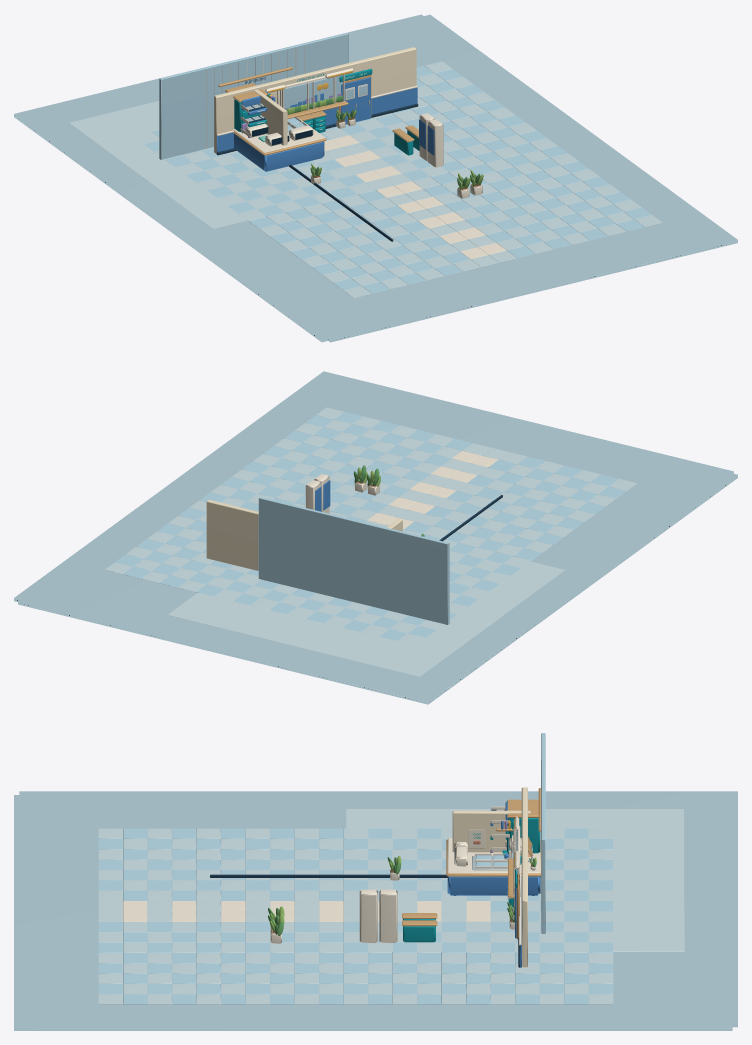
The model's file is hospital-library.glb.
The picture shows the model from 3 angles, top to bottom: view 1: azimuth 30°, elevation 25°; view 2: azimuth 150°, elevation 25°; view 3: azimuth 270°, elevation 25°; orthographic projection. The views are drawn at different scales.
Visible parts, largest first — view 1: Rounded part.445, room_suite_tile, room_suite_lightblue, room_or_lightblue, room_or_tile, Rounded part.942, Rounded part.1462, Rounded part.1461, room_suite_wall, room_suite_cream, room_or_wall, room_or_blue (+8 smaller); view 2: Rounded part.445, Rounded part.942, room_suite_tile, room_suite_lightblue, Rounded part.1462, Rounded part.1461, room_or_tile, room_or_lightblue, room_or_wall, room_suite_cream, room_suite_wall; view 3: Rounded part.942, room_suite_tile, room_suite_lightblue, Rounded part.445, room_or_tile, Rounded part.1461, room_or_lightblue, room_suite_cream, room_or_cream, room_suite_wall, Rounded part.1477, prep_counter_cream (+7 smaller).
Part boxes in pixels (<box>): Rounded part.445: <box>14,14,728,342</box>; room_suite_tile: <box>137,61,662,297</box>; room_suite_lightblue: <box>149,66,648,293</box>; room_or_lightblue: <box>144,66,651,293</box>; room_or_tile: <box>134,61,662,297</box>; Rounded part.942: <box>23,14,737,342</box>; Rounded part.1462: <box>159,32,348,159</box>; Rounded part.1461: <box>69,101,454,228</box>; room_suite_wall: <box>214,50,403,153</box>; room_suite_cream: <box>217,70,506,259</box>; room_or_wall: <box>214,47,416,153</box>; room_or_blue: <box>216,77,434,155</box>; Rounded part.445: <box>18,374,737,704</box>; Rounded part.942: <box>14,371,733,696</box>; room_suite_tile: <box>105,407,636,645</box>; room_suite_lightblue: <box>117,412,626,640</box>; Rounded part.1462: <box>258,497,449,624</box>; Rounded part.1461: <box>168,517,564,676</box>; room_or_tile: <box>105,407,635,644</box>; room_or_lightblue: <box>116,412,618,634</box>; room_or_wall: <box>206,499,398,570</box>; room_suite_cream: <box>367,451,498,529</box>; room_suite_wall: <box>219,504,402,570</box>; Rounded part.942: <box>14,795,732,1030</box>; room_suite_tile: <box>98,828,613,1004</box>; room_suite_lightblue: <box>98,828,613,1004</box>; Rounded part.445: <box>19,791,737,1027</box>; room_or_tile: <box>98,828,613,1004</box>; Rounded part.1461: <box>346,809,684,951</box>; room_or_lightblue: <box>98,828,613,1004</box>; room_suite_cream: <box>123,816,521,936</box>; room_or_cream: <box>359,817,521,945</box>; room_suite_wall: <box>452,788,530,893</box>; Rounded part.1477: <box>447,876,540,895</box>; prep_counter_cream: <box>447,760,541,907</box>.
Bounding box in the file's own units: 26.41 × 5.11 × 34.26.
